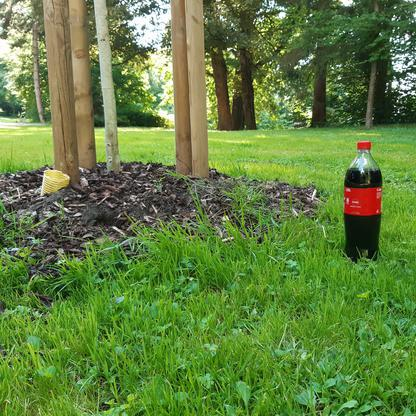coca-cola: (341, 140, 384, 264)
